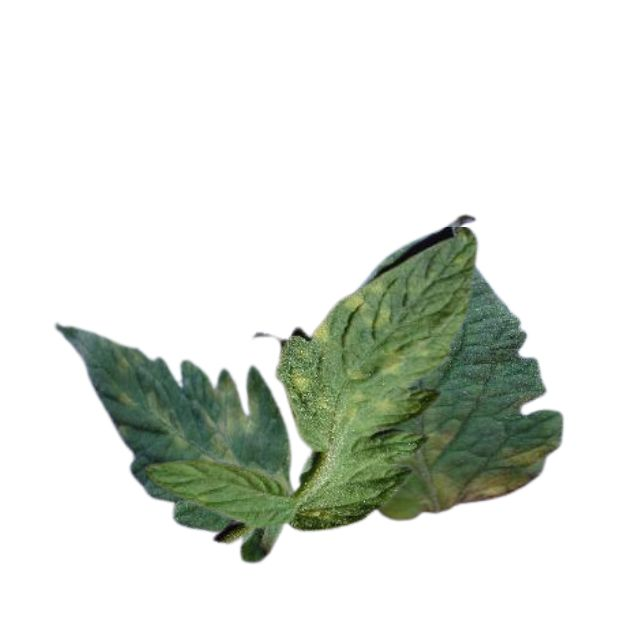Leaf_Mold: (203, 371, 261, 464), (429, 468, 535, 512), (342, 275, 391, 335), (500, 436, 555, 469), (414, 426, 454, 464), (377, 344, 405, 379), (289, 365, 313, 394), (371, 391, 395, 415), (313, 319, 329, 346)
